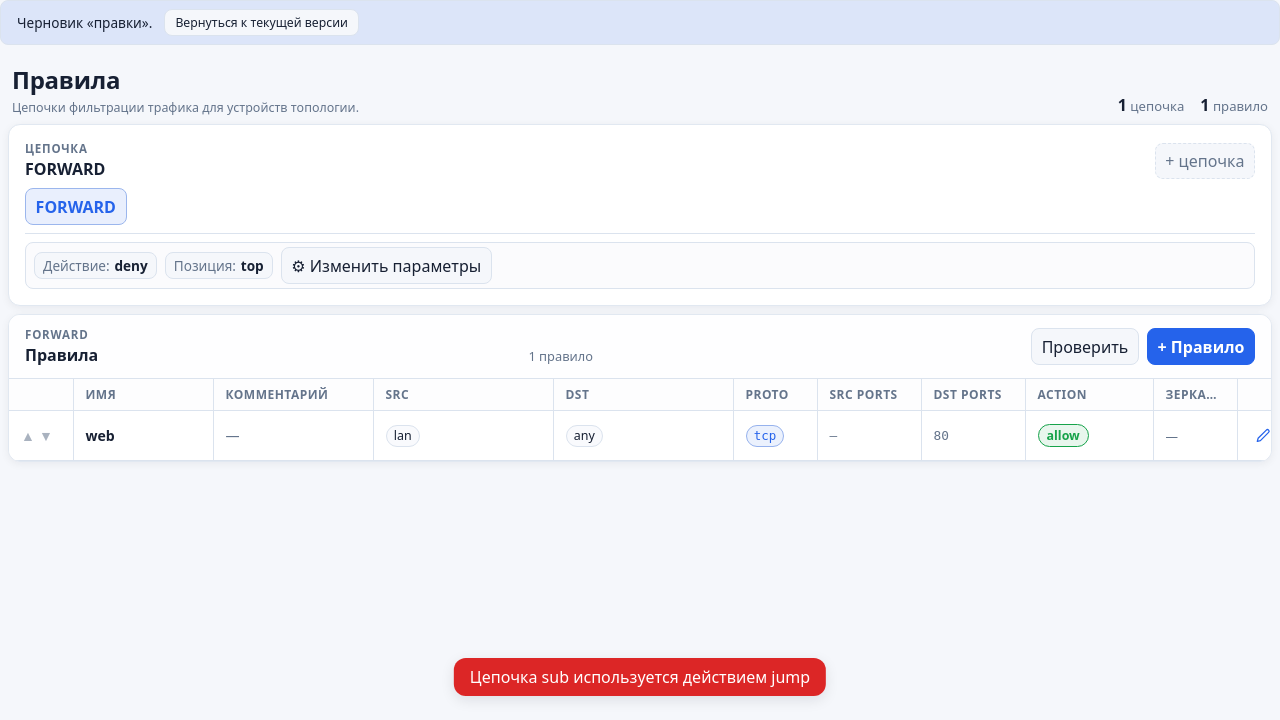
it: RulesPage › hides endpoints already picked for the same side
Expected: the text "web" is shown, [73,411,213,461]
Click the button titled "Добавить правило". click: (1201, 346)
box: [1147,328,1255,365]
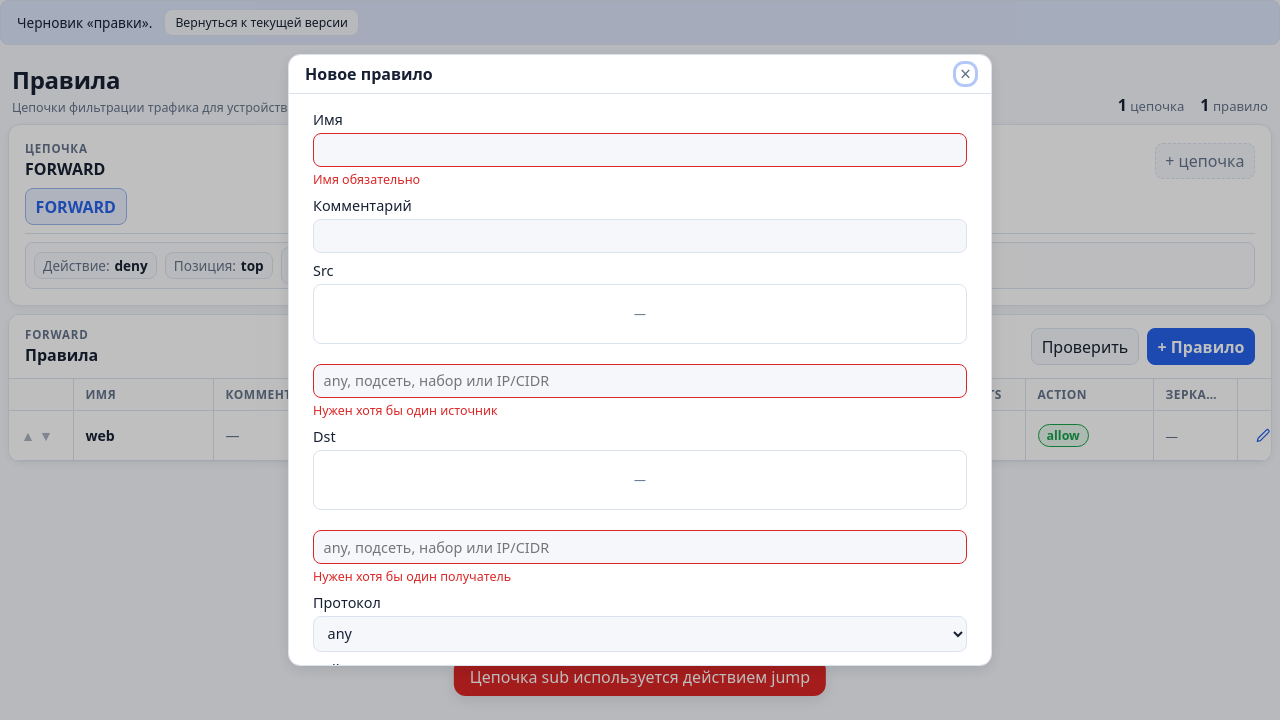
Click the 1st field with placeholder "any, подсеть, набор или IP/CIDR". click: (640, 381)
box: [313,364,967,398]
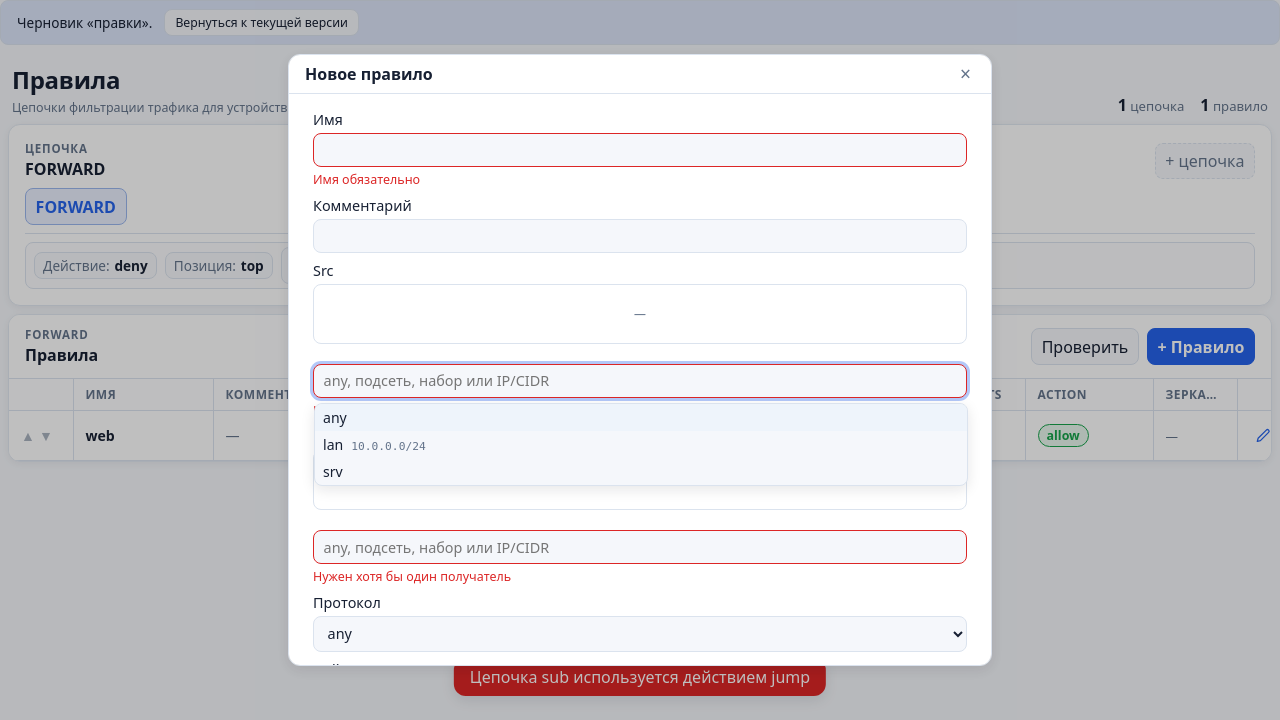
Click the button "lan10.0.0.0/24". click: (388, 446)
box: [315,431,967,458]
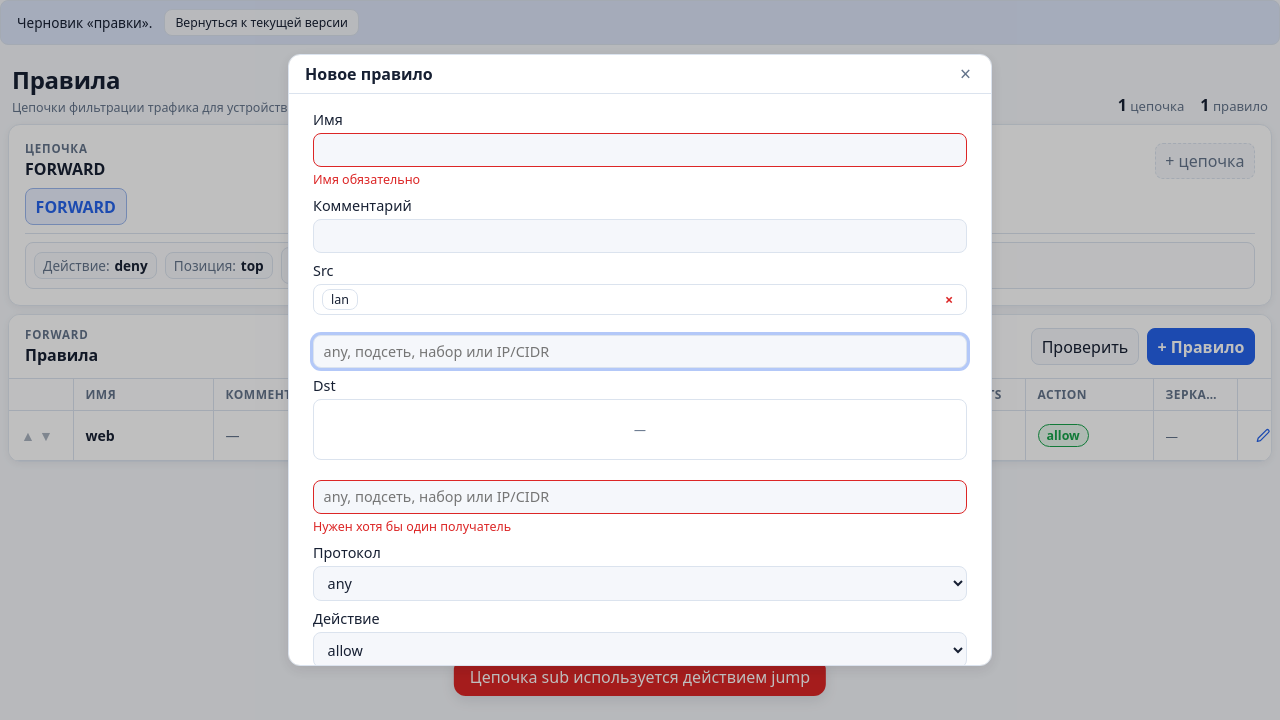
Note: Выбранный lan исчез из кандидатов src...
Click the 1st field with placeholder "any, подсеть, набор или IP/CIDR". click: (640, 352)
box: [313,335,967,368]
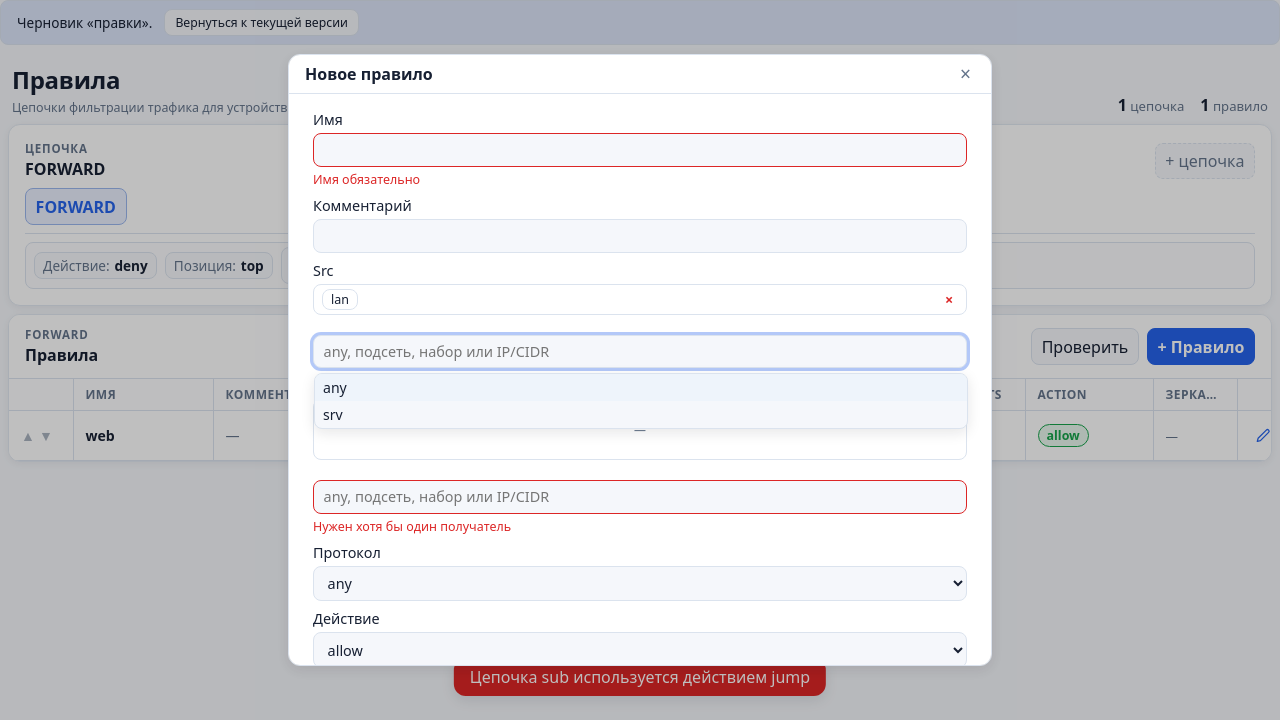
Note: ...но по-прежнему доступен в dst.
Click the 2nd field with placeholder "any, подсеть, набор или IP/CIDR". click: (640, 497)
box: [313,480,967,514]
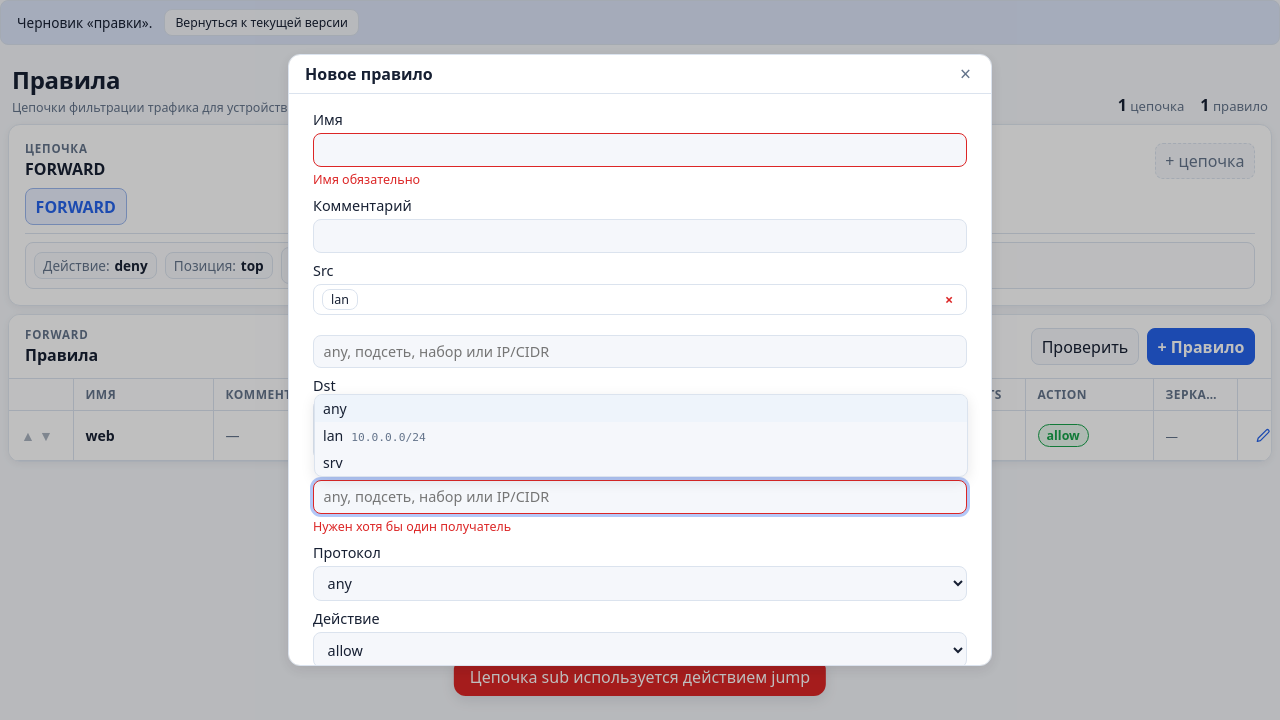
Now the button "lan10.0.0.0/24" is shown, box [315,422,967,449]
